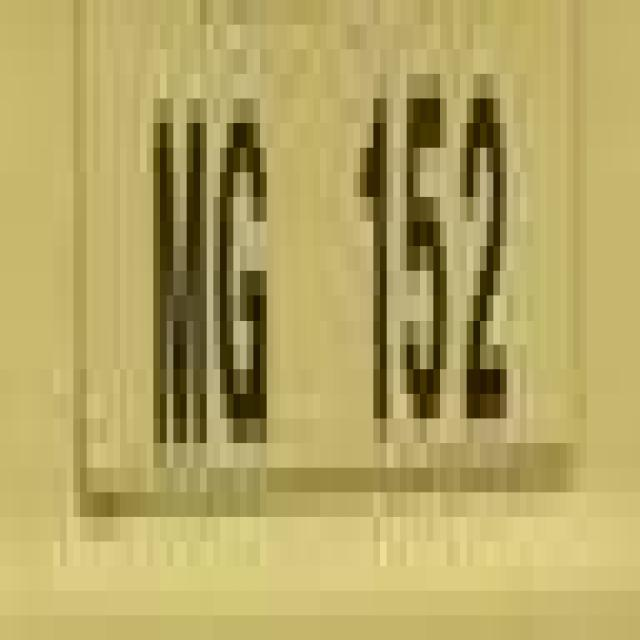license_plate: (0, 0, 607, 542)
